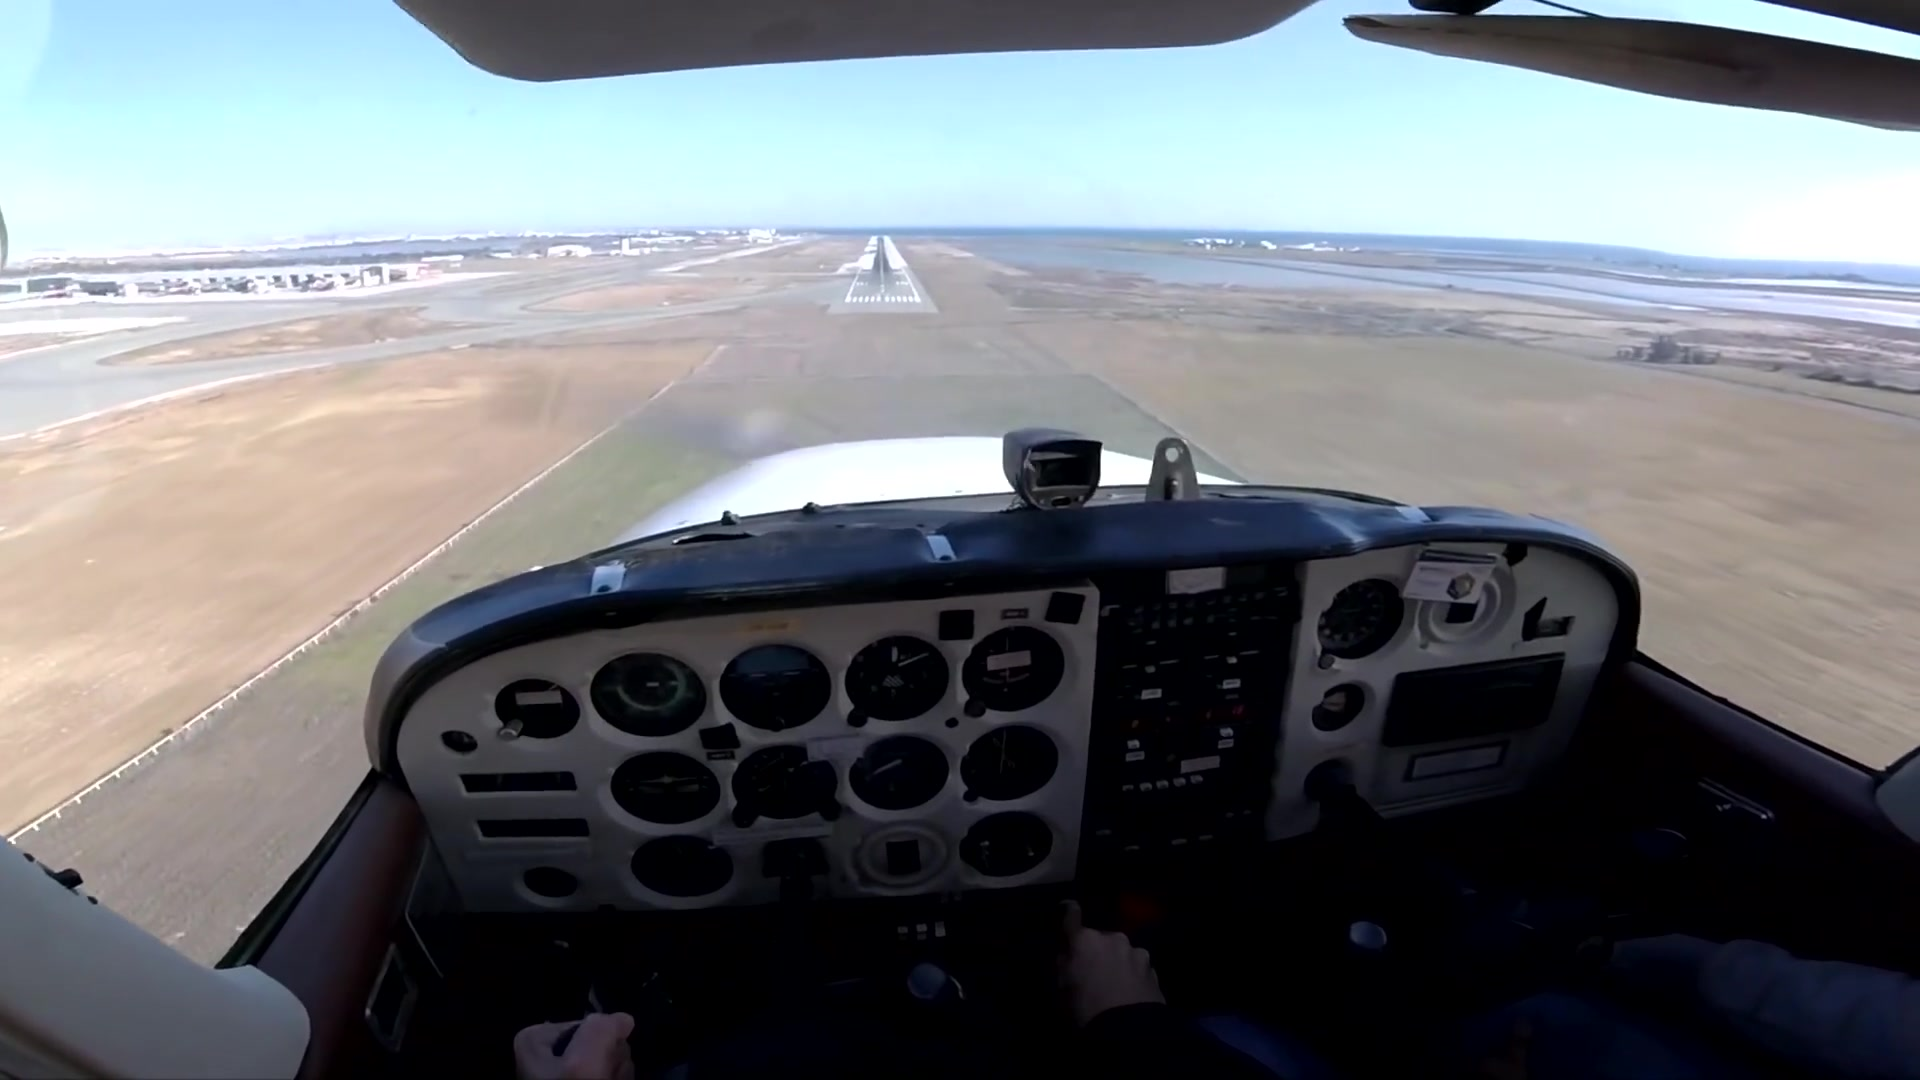entrance: (847, 293, 924, 307)
runway: (831, 237, 934, 314)
